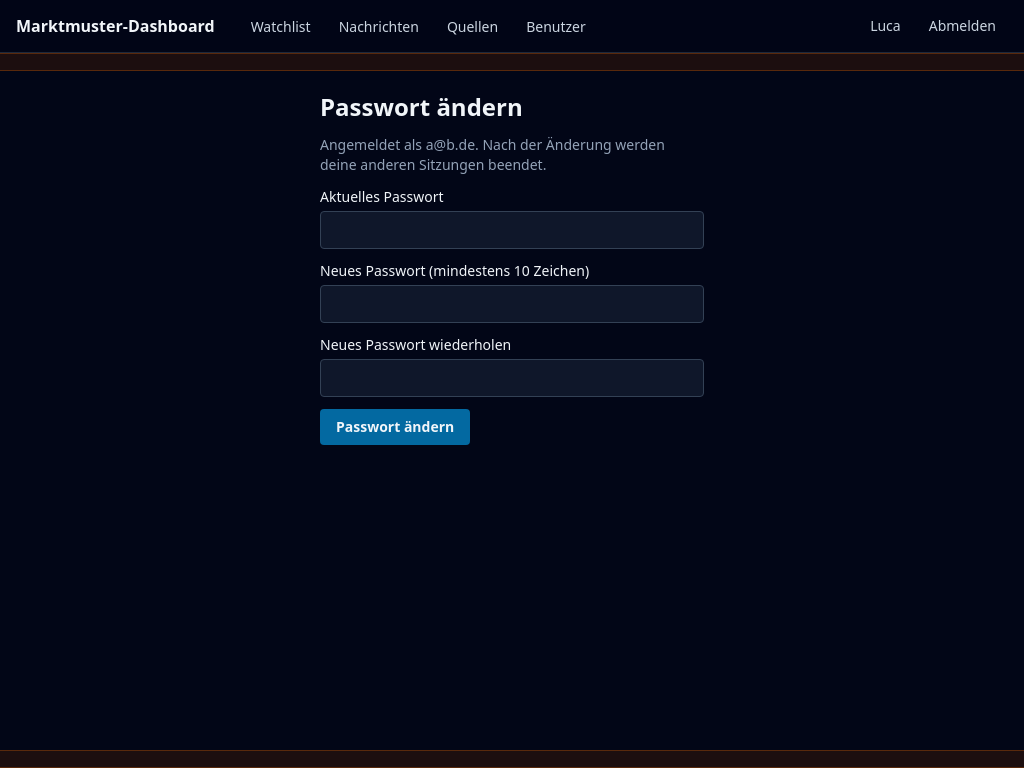
Scenario: Passwortwechsel › prüft Länge und Wiederholung im Browser
Type "alt-alt-alt-1" into the password field labelled "Aktuelles Passwort".
click(512, 230); type("alt-alt-alt-1")  # box [320,211,704,249]
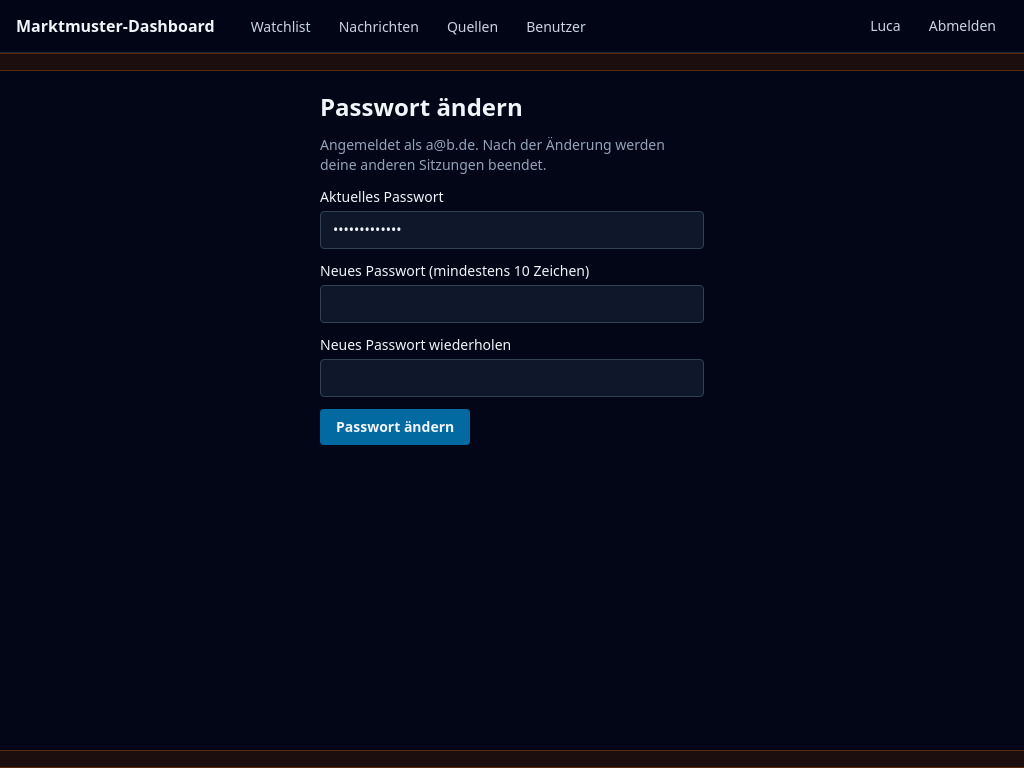
Type "kurz" into the password field labelled "Neues Passwort (mindestens 10 Zeichen)".
click(512, 304); type("kurz")  # box [320,285,704,323]
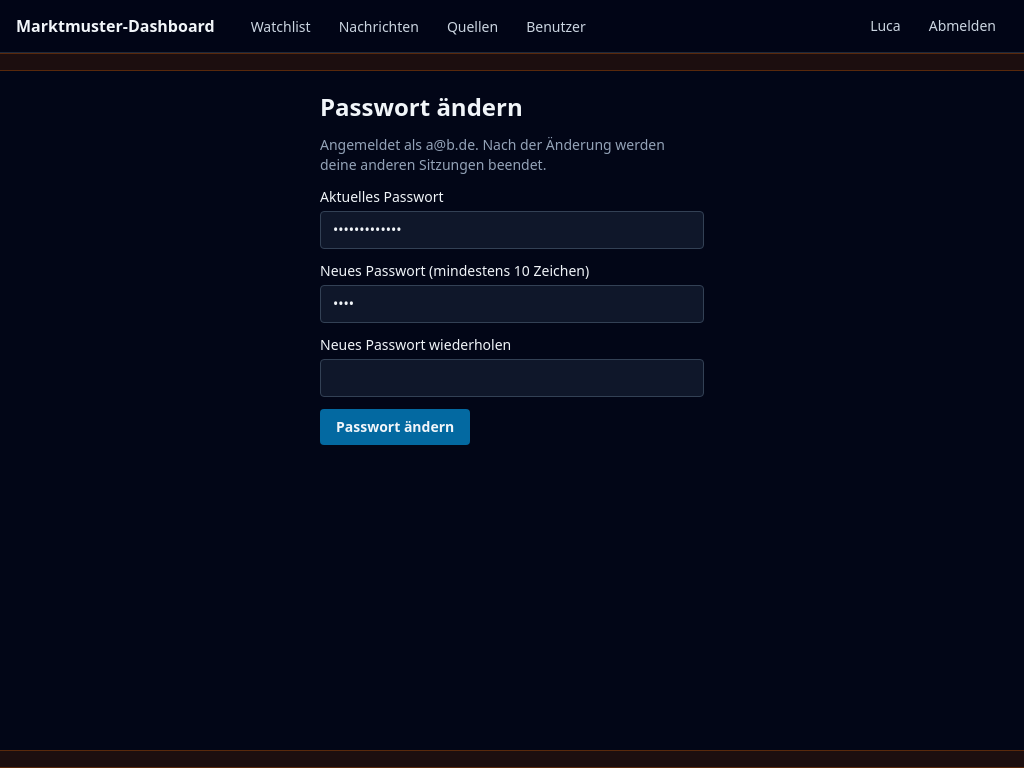
Type "kurz" into the password field labelled "Neues Passwort wiederholen".
click(512, 378); type("kurz")  # box [320,359,704,397]
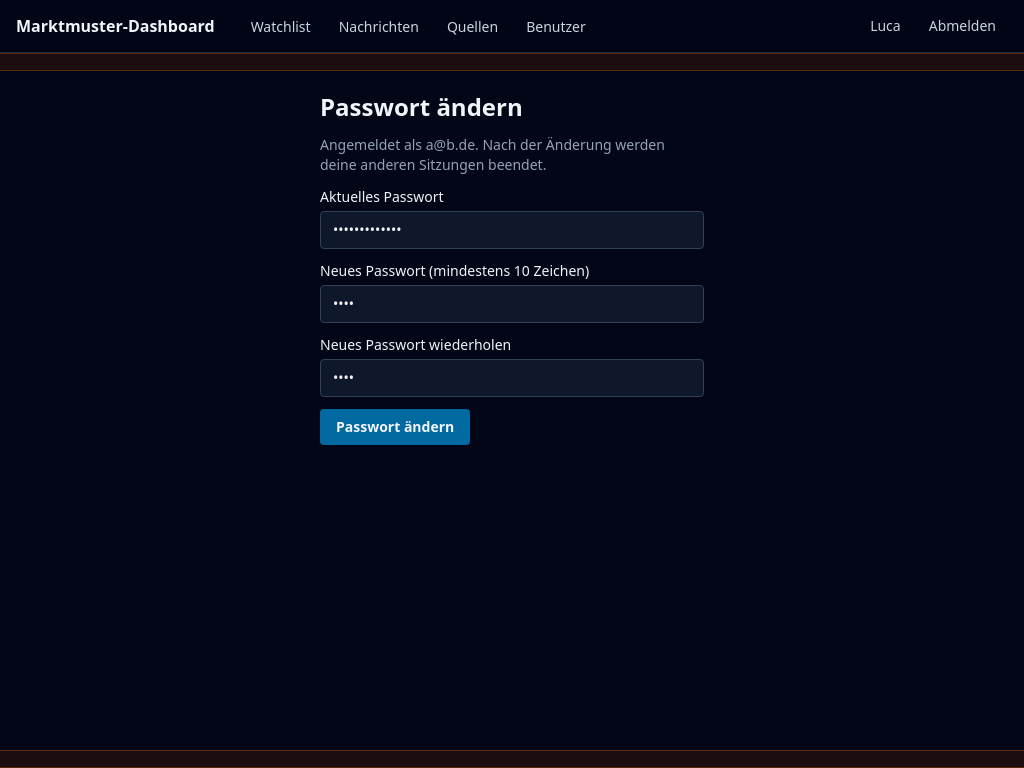
Click the button "Passwort ändern".
click(395, 427)  # box [320,409,470,445]
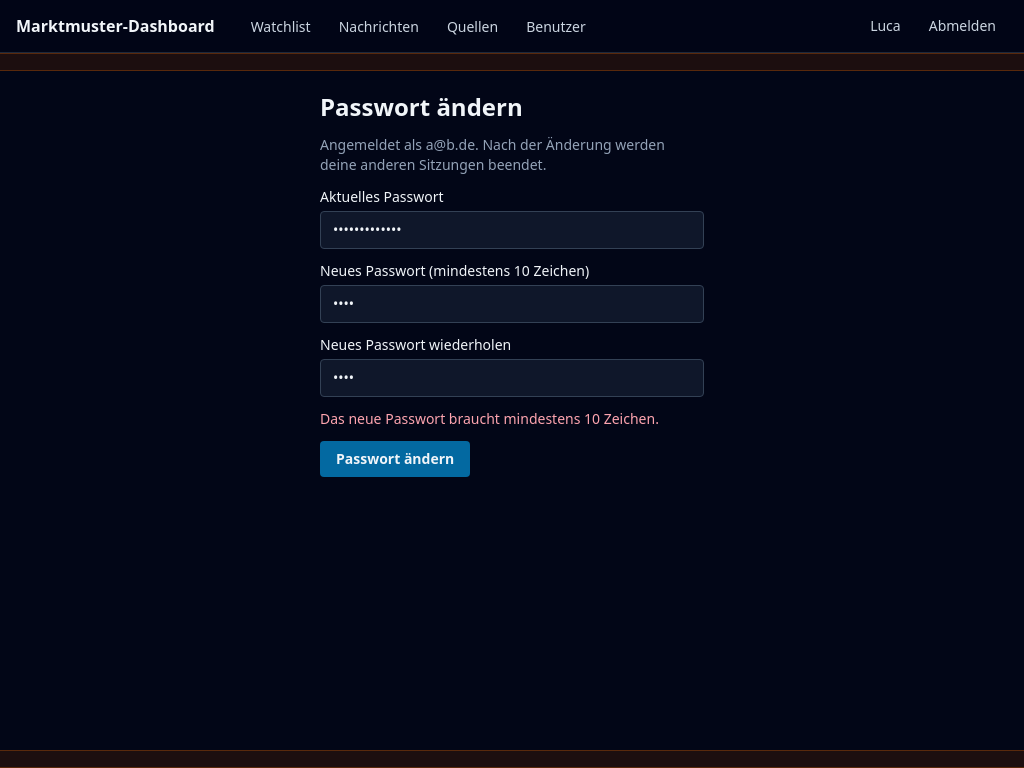
Expected: the message shows "mindestens 10", [320,409,659,428]
